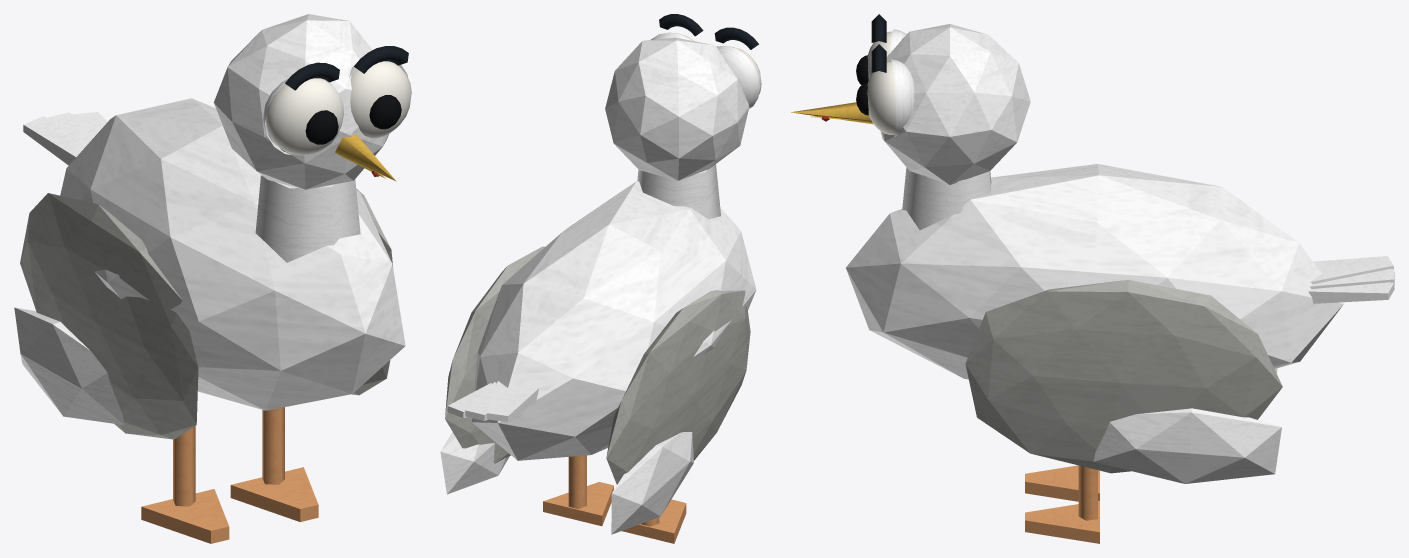
Rendered from seagull.glb.
The picture shows the model from 3 angles, left to right: view 1: azimuth 30°, elevation 25°; view 2: azimuth 150°, elevation 25°; view 3: azimuth 270°, elevation 25°; orthographic projection. The views are drawn at different scales.
Parts seen in each view (by area): view 1: body, wingR, head, neck, footL, footR, tail, hipL, hipR, wingL; view 2: body, wingR, head, wingL, neck, tail, footL, footR, hipL; view 3: body, wingL, head, tail, neck, footL, footR, hipL.
Part boxes in pixels (box(x1,y1,x2,y2)): body: box(60, 98, 405, 410); wingR: box(14, 193, 198, 439); head: box(213, 14, 411, 189); neck: box(255, 175, 360, 262); footL: box(230, 467, 318, 521); footR: box(141, 489, 229, 543); tail: box(23, 112, 107, 165); hipL: box(262, 407, 284, 484); hipR: box(173, 426, 195, 506); wingL: box(352, 189, 392, 395); body: box(472, 181, 756, 460); wingR: box(606, 290, 750, 534); head: box(605, 14, 761, 180); wingL: box(440, 246, 545, 494); neck: box(637, 164, 720, 219); tail: box(447, 381, 538, 421); footL: box(543, 482, 613, 526); footR: box(622, 499, 686, 543); hipL: box(568, 455, 586, 508); body: box(846, 164, 1343, 379); wingL: box(965, 280, 1282, 483); head: box(791, 14, 1030, 184); tail: box(1308, 256, 1394, 303); neck: box(902, 167, 991, 230); footL: box(1025, 500, 1099, 543); footR: box(1025, 465, 1099, 501); hipL: box(1078, 465, 1097, 520).
Bounding box in the file's own units: 0.1866 × 0.3964 × 0.4511.
14 materials, 11 textured.
